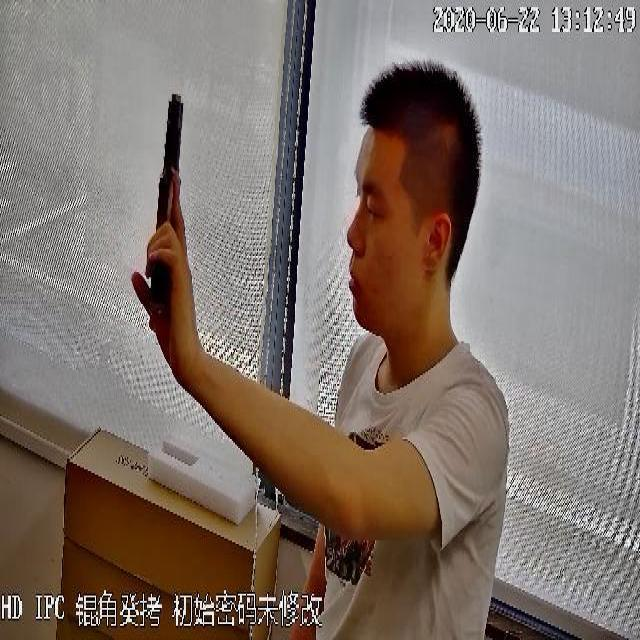pistol: (145, 86, 195, 311)
